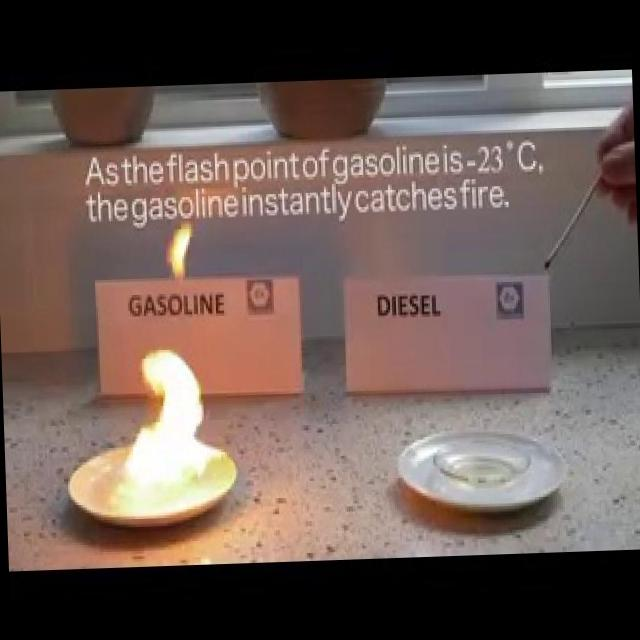Fire: (98, 344, 212, 506), (158, 219, 202, 284)
